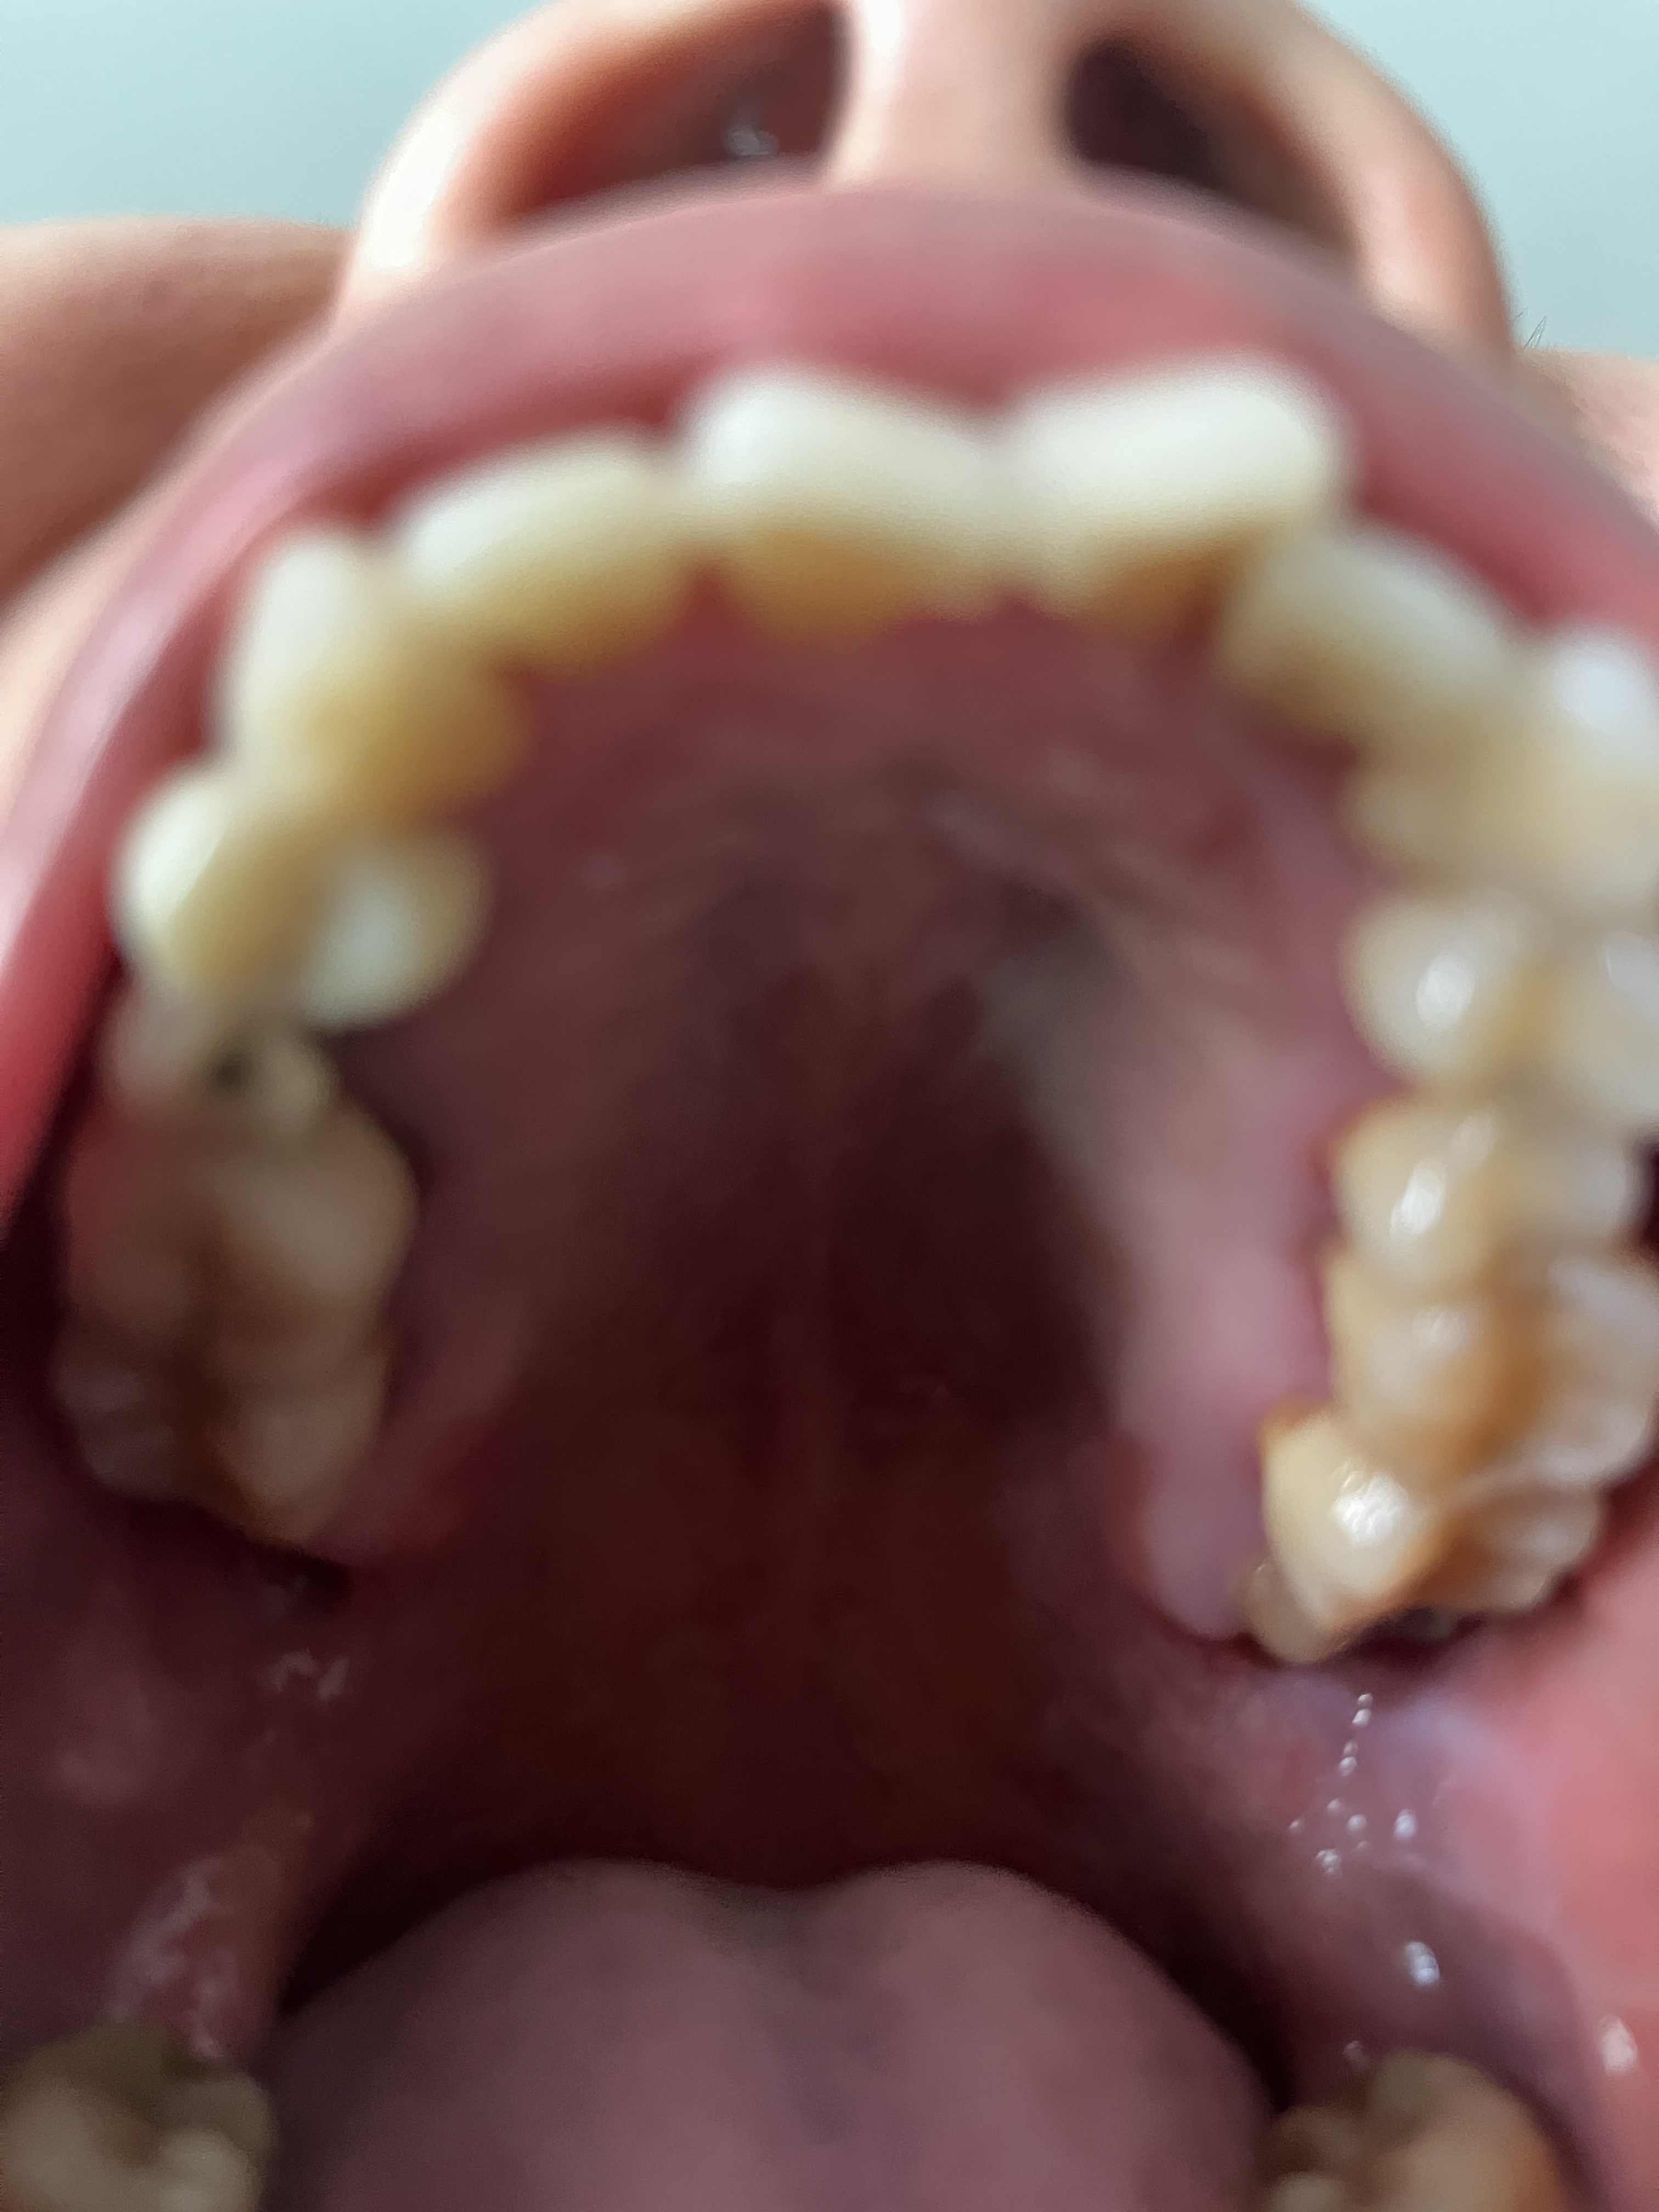teeth: (1002, 355, 1345, 646), (676, 366, 995, 639), (124, 779, 486, 1017), (1366, 643, 1645, 927), (218, 549, 523, 799), (380, 411, 680, 658), (84, 1125, 408, 1348), (73, 1338, 387, 1557), (1225, 528, 1521, 751), (1340, 1280, 1649, 1482), (1366, 902, 1636, 1129), (1265, 1442, 1581, 1632), (1349, 1101, 1600, 1292), (108, 996, 322, 1104)
